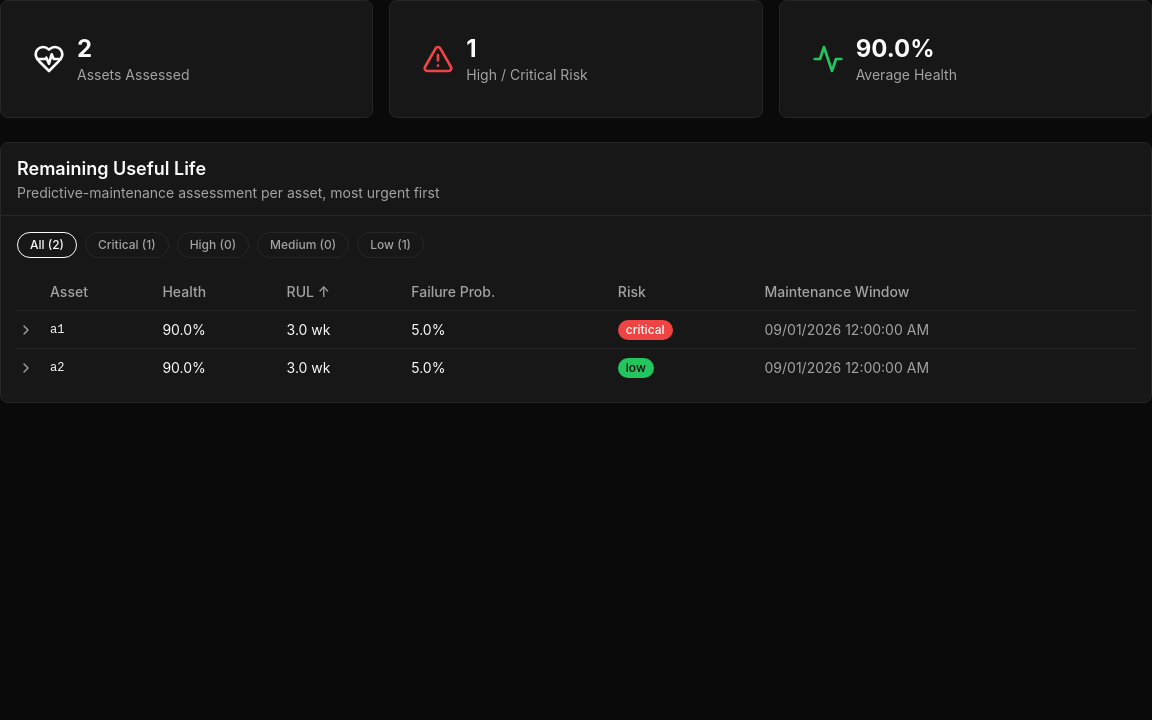
Test: PredictiveMaintenance — filtering and detail › expands a row to its recommendation and collapses again
Click the text "a1" at [57, 330], box x1=49 y1=310 x2=161 y2=348
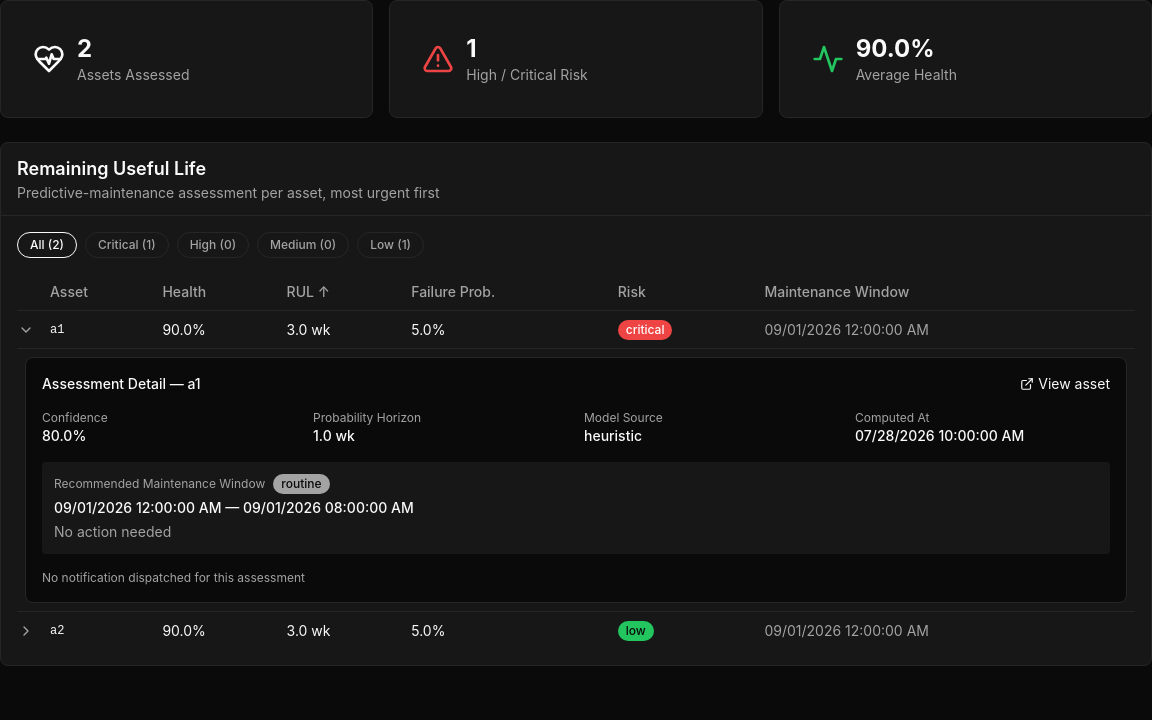
Check: the text "No action needed" is shown, box x1=54 y1=523 x2=171 y2=540
Click the text "a1" at [57, 330], box x1=49 y1=310 x2=161 y2=348
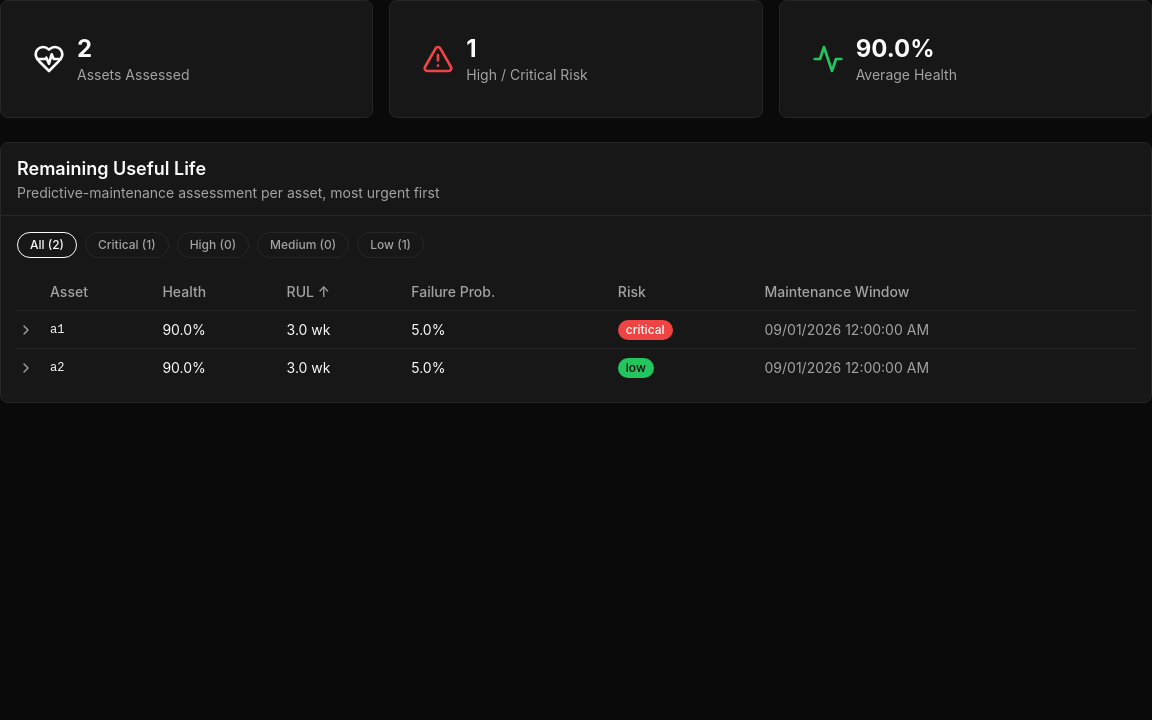
Check: the text "No action needed" is gone
